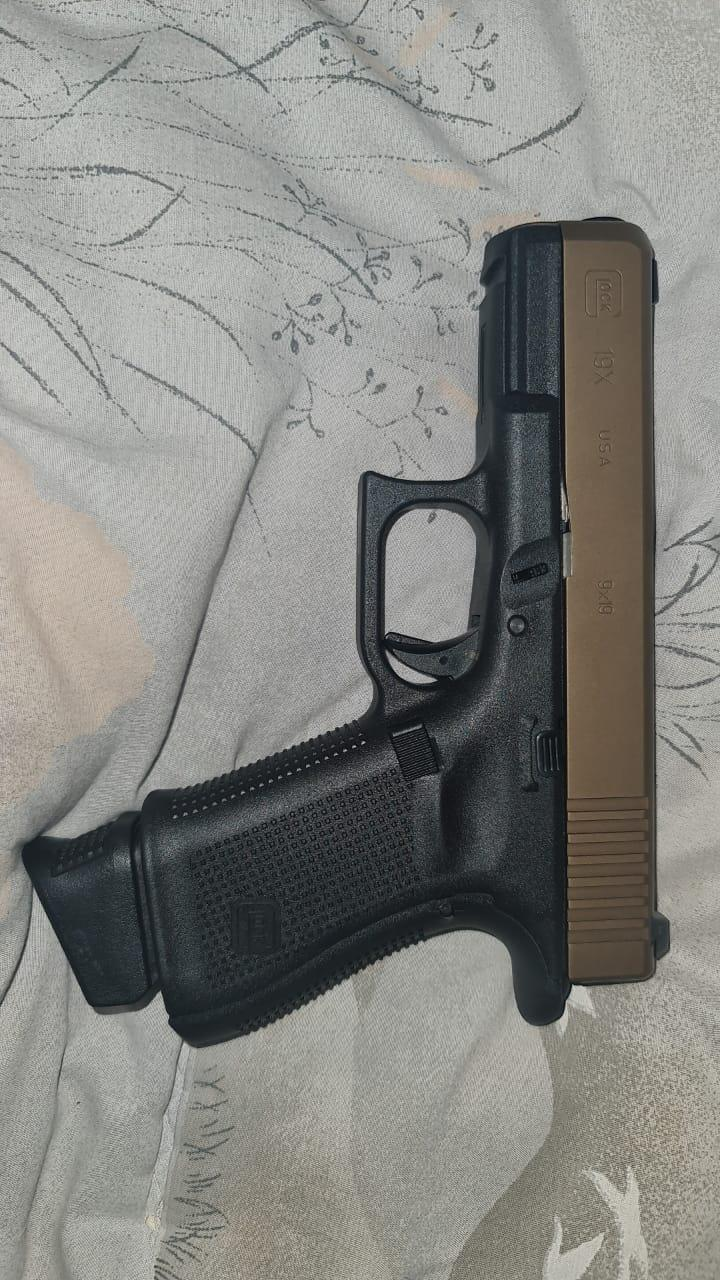weapon: (21, 213, 673, 1050)
